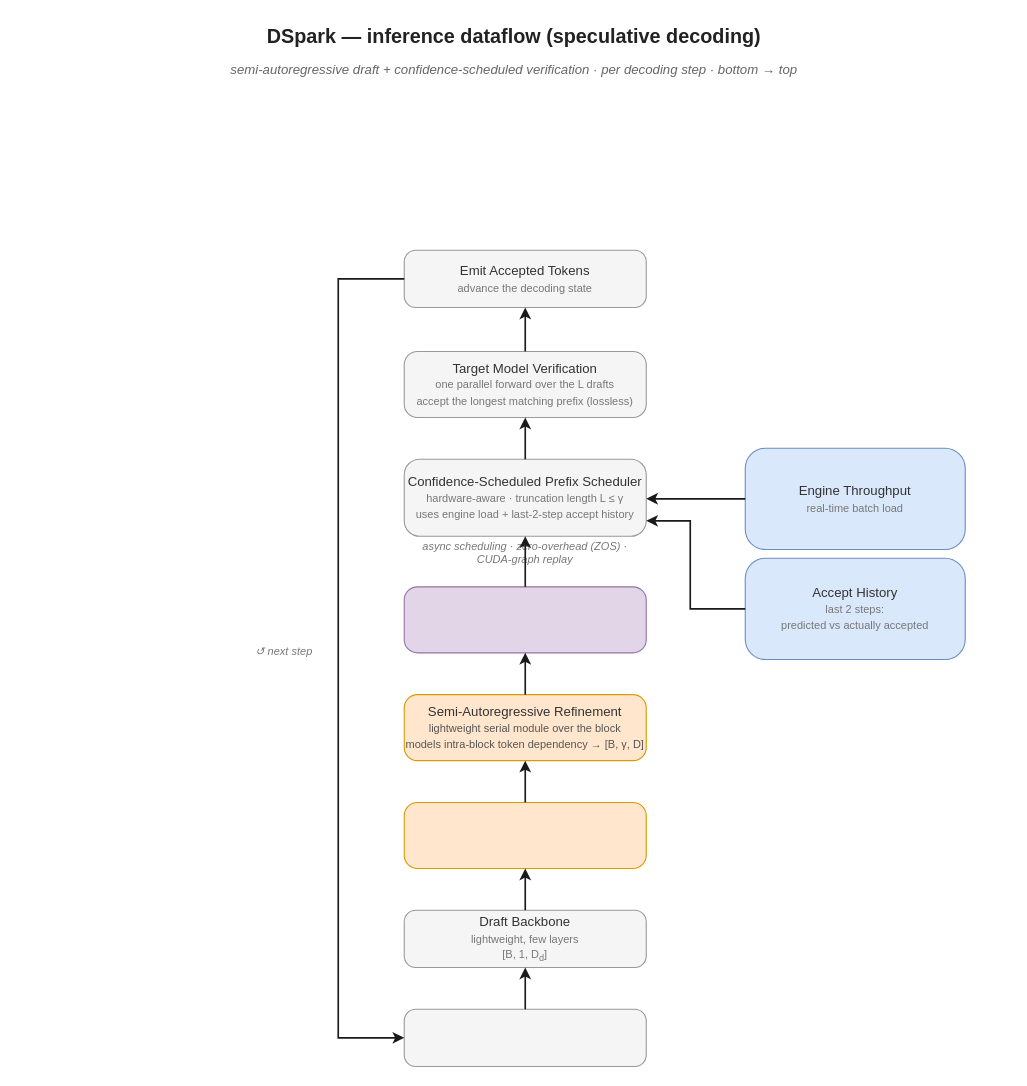
Image size: 1027x1086. Some labels were removed from this diagram. Here are the shapes that lost their labels. From the top down, the centre of each, then its label:
(x=524, y=619): Confidence Head c i = P(draft i survives verification) [B, γ]
(x=524, y=834): Parallel Draft Head γ positions emitted in one shot [B, γ, V]
(x=524, y=1037): Decoding State last accepted token + target hidden h t [B, 1, D]
